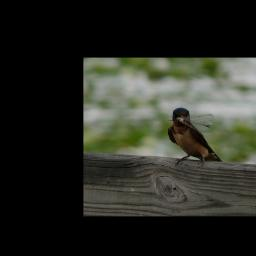Swallow: (168, 107, 223, 170)
